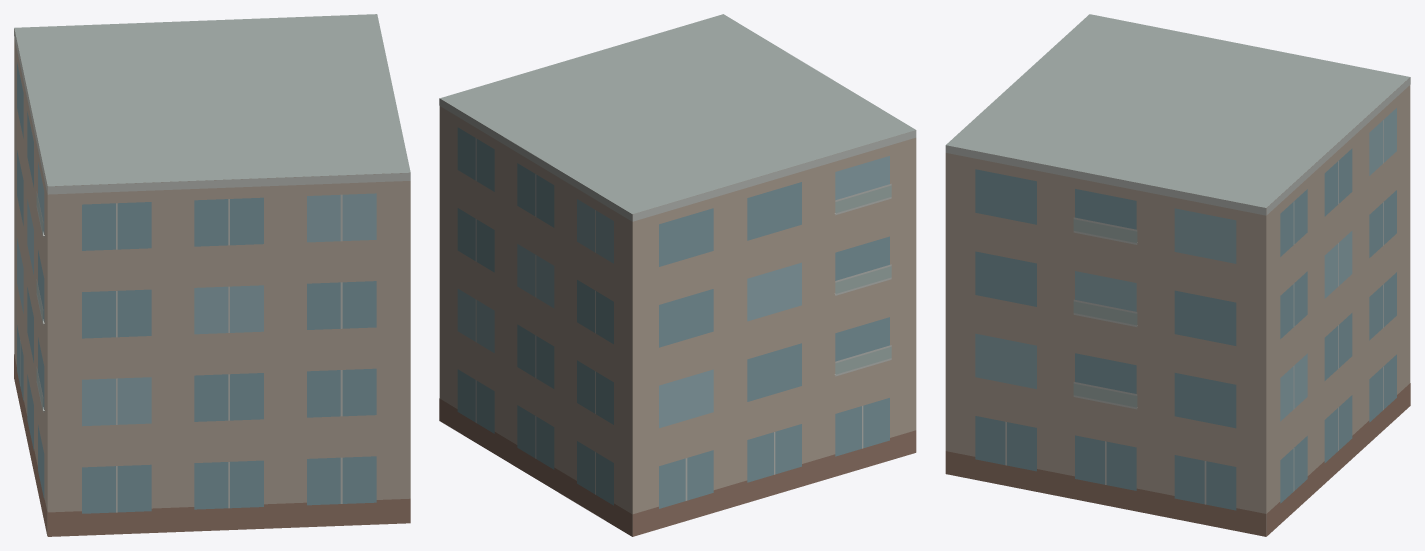
The model's file is survey-upis-32668612.glb.
3 views of the same model, side by side, from view 1: azimuth 30°, elevation 25°; view 2: azimuth 150°, elevation 25°; view 3: azimuth 270°, elevation 25° (orthographic). The views are drawn at different scales.
Visible parts, largest first — view 1: survey-upis-32668612.tmp; view 2: survey-upis-32668612.tmp; view 3: survey-upis-32668612.tmp.
Part boxes in pixels (x1,y1,x2,y2): survey-upis-32668612.tmp: [14, 14, 410, 536]; survey-upis-32668612.tmp: [439, 14, 916, 536]; survey-upis-32668612.tmp: [945, 14, 1410, 536].
Bounding box in the file's own units: 13.3 × 10.5 × 13.46.
